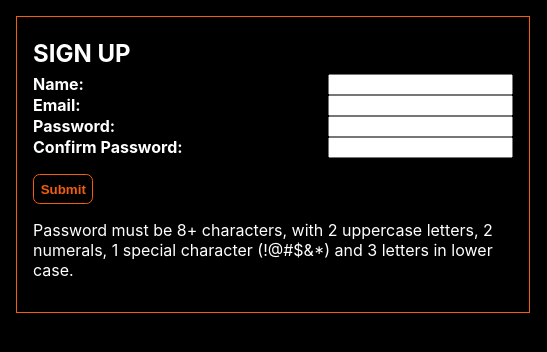
Test case: SignUpForm › displays password criteria when login is attempted with inappropriate password
Type "test" into the field labelled "Name:" at (420, 84), box left=328, top=74, right=513, bottom=95
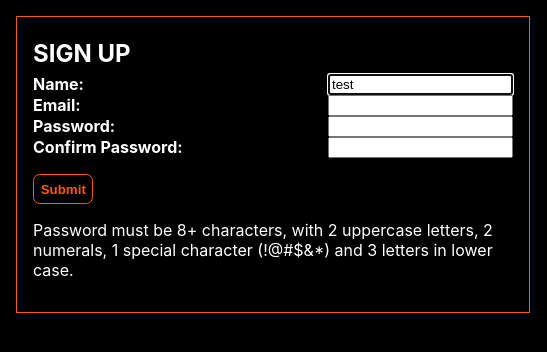
Type "test@test.com" into the field labelled "Email:" at (420, 106), box left=328, top=95, right=513, bottom=116
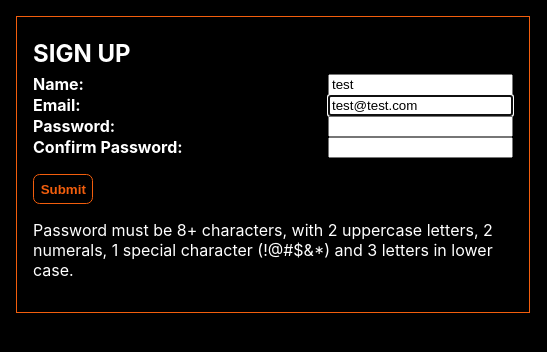
Type "test" into the password field labelled "Password:" at (420, 126), box left=328, top=116, right=513, bottom=137
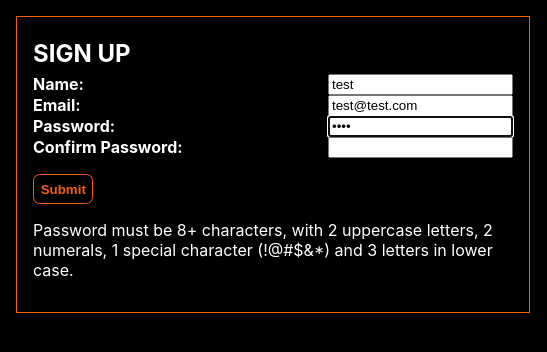
Type "test" into the password field labelled "Confirm Password:" at (420, 148), box left=328, top=137, right=513, bottom=158
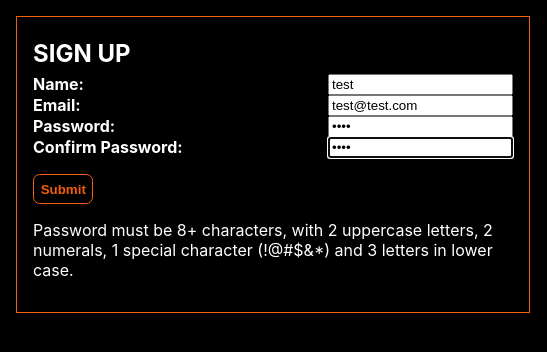
Click the button "Submit" at (63, 189), box left=33, top=174, right=94, bottom=204
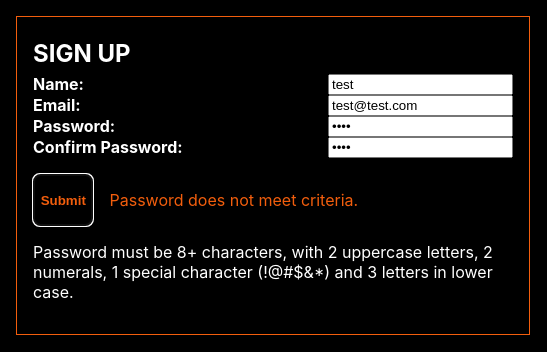
Expected: the text "Password does not meet criteria." is shown, left=110, top=190, right=358, bottom=210
